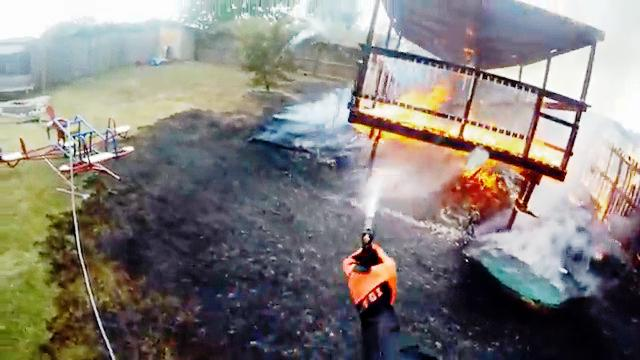fire: (406, 76, 446, 105), (471, 172, 500, 202)
smoke: (536, 226, 576, 275), (482, 82, 525, 118), (546, 186, 577, 228), (296, 102, 336, 120)
